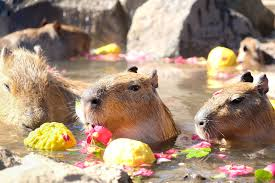capivara: (81, 65, 181, 156), (1, 45, 75, 144), (194, 71, 275, 152), (1, 21, 94, 63)
